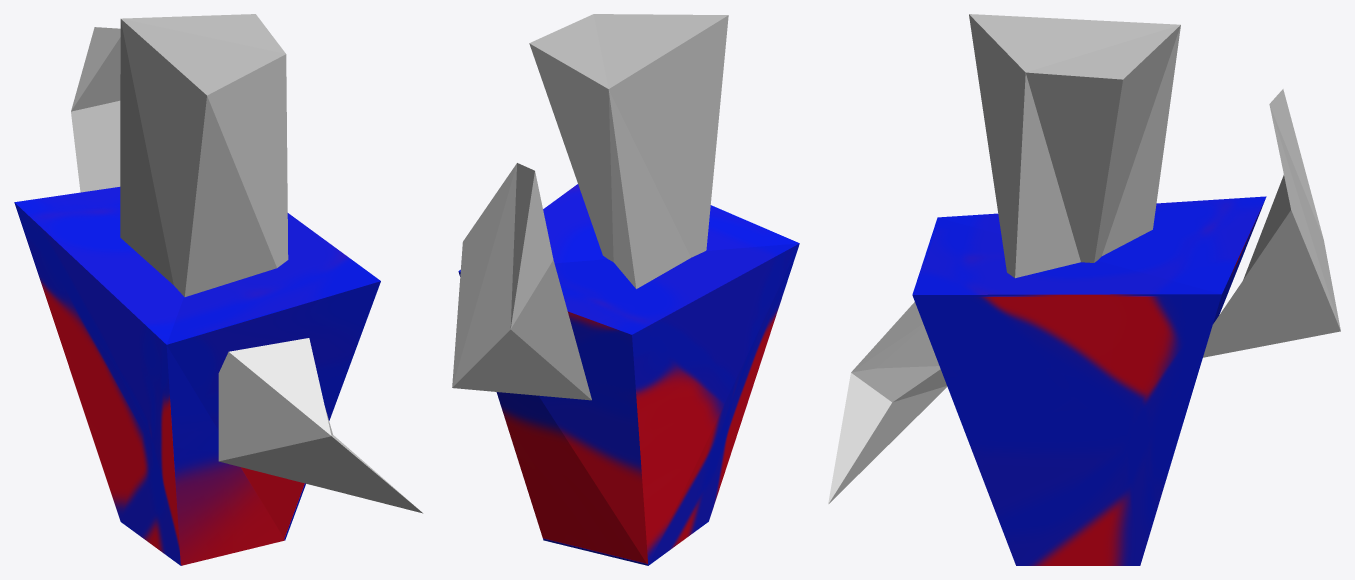
The model's file is Brb_Axeman_prefab.dae.
3 renders of one model, left to right at view 1: azimuth 30°, elevation 25°; view 2: azimuth 150°, elevation 25°; view 3: azimuth 270°, elevation 25°, orthographic. The views are drawn at different scales.
Visible parts, largest first — view 1: Cube, Cube.003, Cube.001, Cube.002; view 2: Cube, Cube.003, Cube.002; view 3: Cube, Cube.003, Cube.002, Cube.001.
Part boxes in pixels (x1,y1,x2,y2): Cube: (14,187,380,565); Cube.003: (120,14,288,296); Cube.001: (218,338,423,513); Cube.002: (71,27,120,192); Cube: (458,184,799,565); Cube.003: (529,14,728,288); Cube.002: (452,163,591,400); Cube: (912,196,1266,565); Cube.003: (969,14,1180,278); Cube.002: (1203,89,1340,357); Cube.001: (828,302,947,504).
Size of the model in its own units: 3.58 by 7.56 by 8.15.
